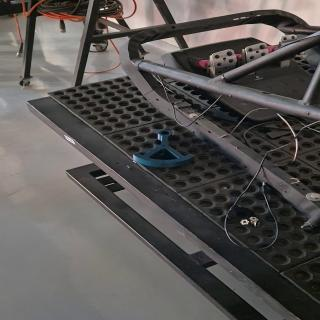haptic: (132, 130, 196, 168)
